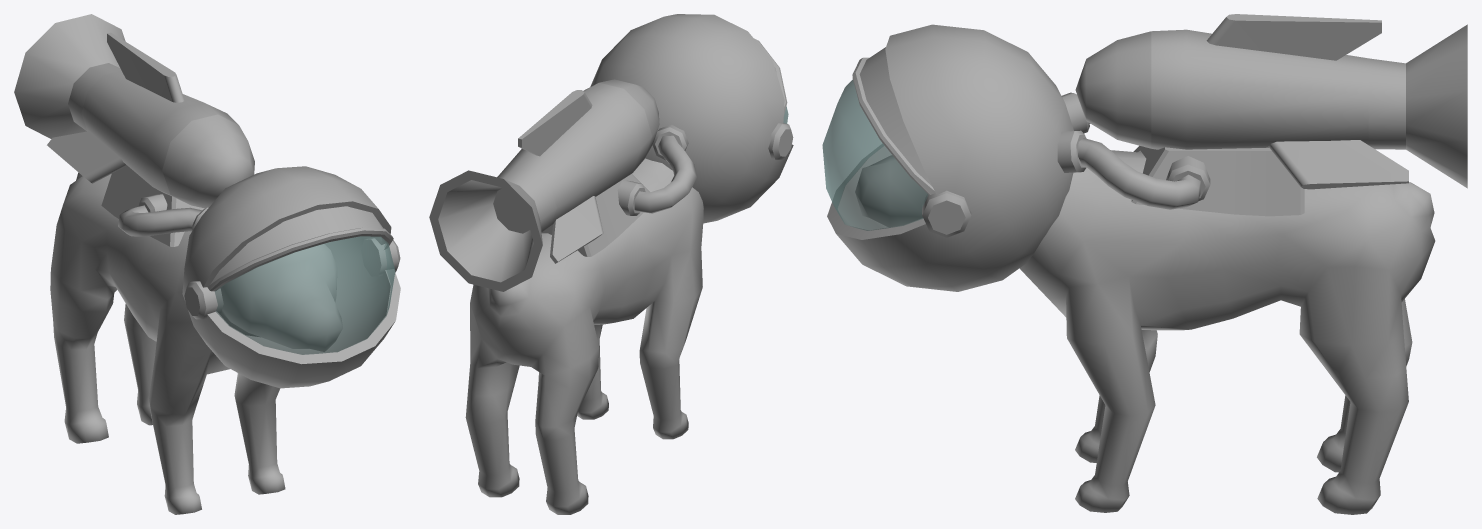
File: Dog.fbx
The picture shows the model from 3 angles, left to right: view 1: azimuth 30°, elevation 25°; view 2: azimuth 150°, elevation 25°; view 3: azimuth 270°, elevation 25°; orthographic projection. The views are drawn at different scales.
Parts seen in each view (by area): view 1: Dog; view 2: Dog; view 3: Dog.
Boxes of the visible parts, left/top/right/bottom form: Dog: left=14, top=14, right=400, bottom=514; Dog: left=429, top=14, right=793, bottom=514; Dog: left=822, top=14, right=1467, bottom=514.
Size of the model in its own units: 0.5798 by 1.08 by 1.34.
